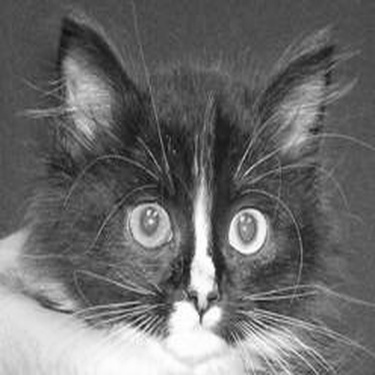cat: (6, 10, 368, 373)
